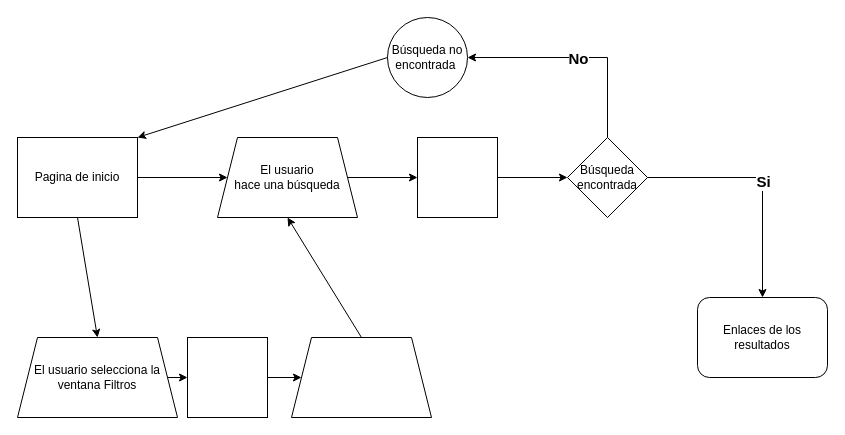
The diagram is 845 pixels wide and 435 high, and some of its shapes have lost their labels. Each missing label, with the centre of its shape:
Pantalla de configuración de filtros: pixel 227 377
Pantalla en busqueda: pixel 457 177
Selecciona filtro/s Indicado/s: pixel 361 377
